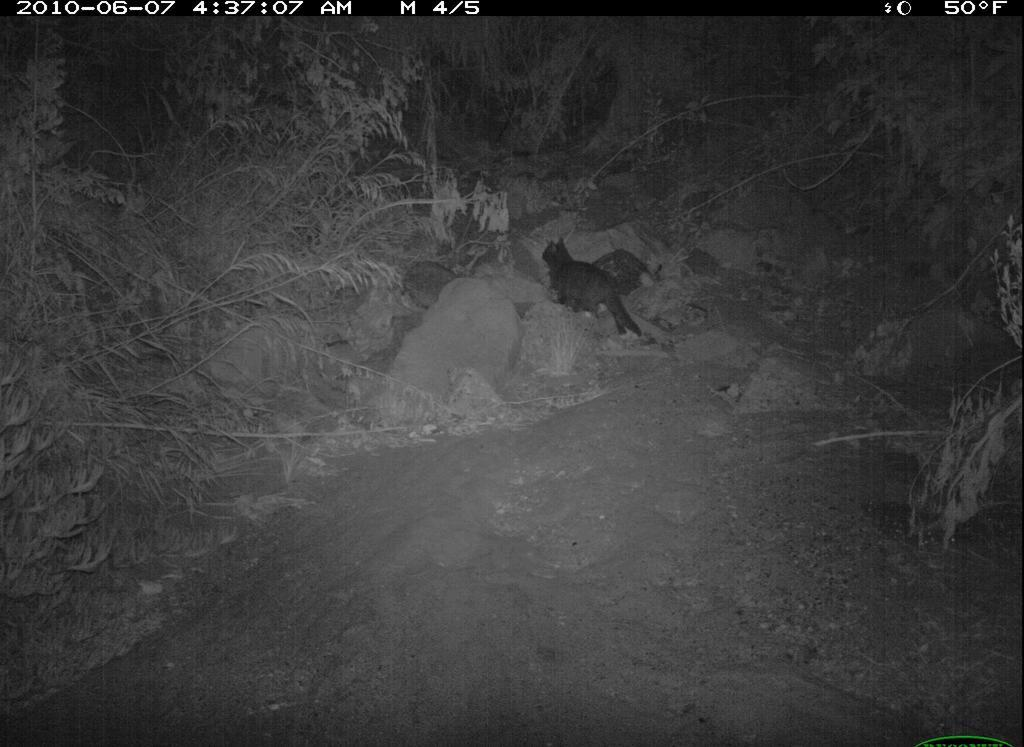cat: (538, 225, 657, 353)
